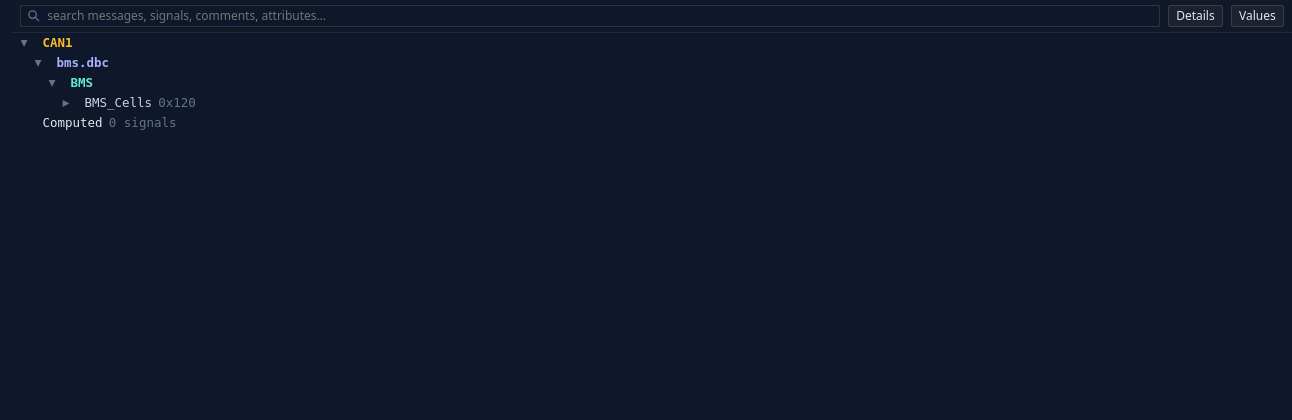
Test: creating one › offers every function on the tree's context menu
Expected: the text "Computed" is shown, [42, 115, 102, 130]
Right-click the element with class "dbc-panel-tree".
right_click(57, 43)  # box [12, 34, 196, 130]
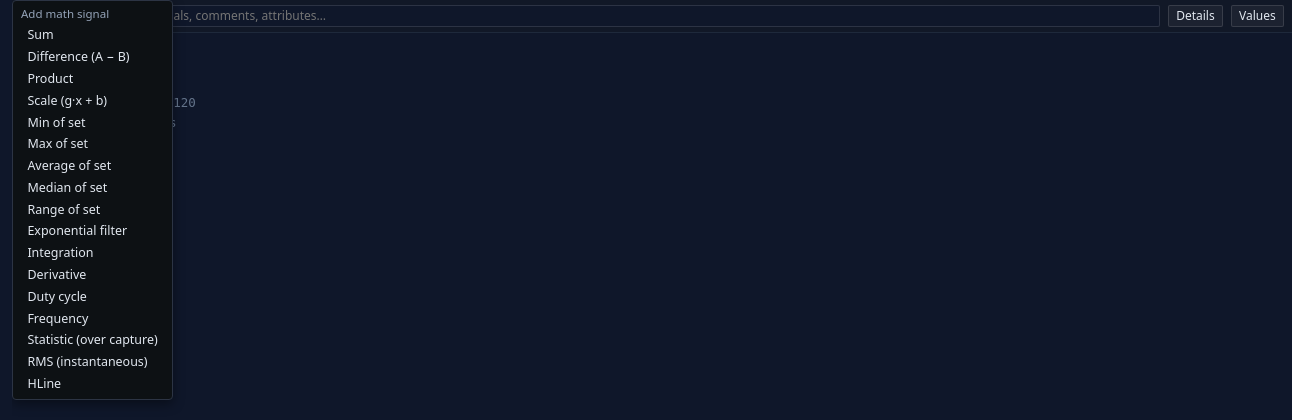
Expected: the menu item "Sum" is shown, [21, 24, 164, 46]
Expected: the menu item "Statistic (over capture)" is shown, [21, 329, 164, 351]
Expected: the menu item "Derivative" is shown, [21, 264, 164, 285]
